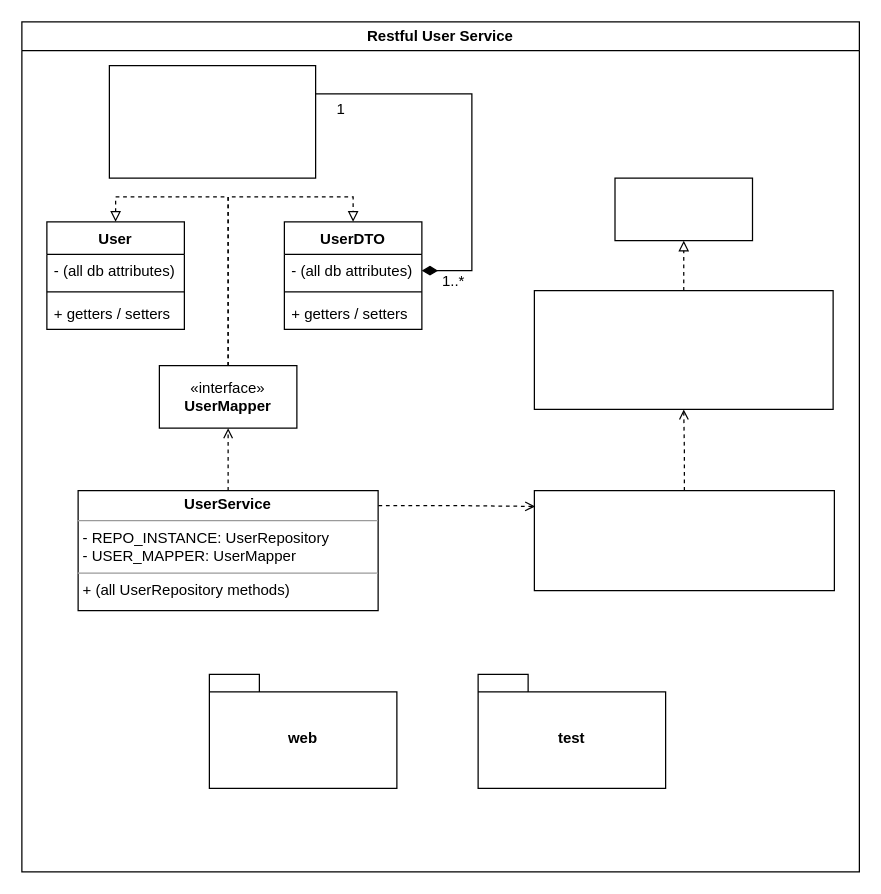
Some shapes in this 881 by 894 pixel diagram are drawn without their labels. Each missing label, with the centre of its shape:
"<<Enum>> UserRole + REGULAR, ADMIN: Integer + getValue(): Integer" goes at point (212, 121).
"<<Interface>> IUserCrud (none) + findUserByRole(Integer): Iterable" goes at point (683, 349).
"UserRepository - USER_CRUD: IUserCrud + (all IUserCrud methods)" goes at point (683, 540).
"«interface» CrudRepository" goes at point (683, 209).
